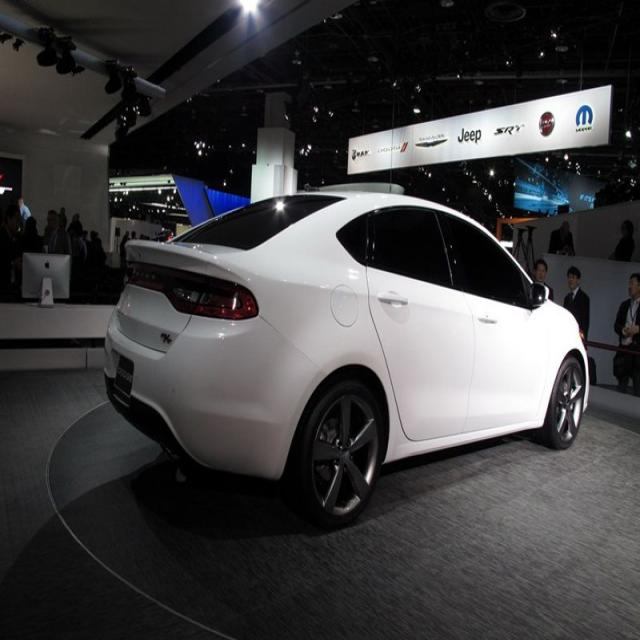back_glass: (170, 192, 349, 249)
back_right_side_light: (171, 268, 261, 325)
door: (361, 202, 478, 445)
front_right_side_door: (433, 201, 548, 439)
front_right_side_mirror: (528, 278, 550, 317)
rear_bumper: (105, 302, 326, 482)
wheel: (298, 383, 382, 525), (543, 358, 584, 448)
